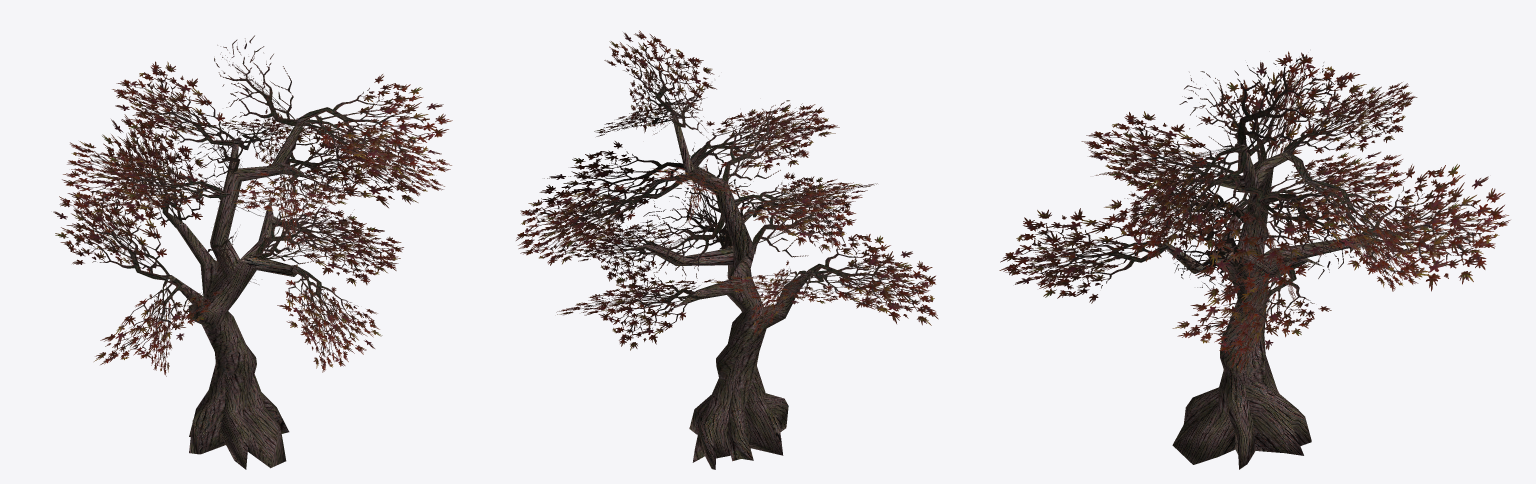
The model's file is decd_dath_blacktree_l0.fbx.
3 views of the same model, side by side, from view 1: azimuth 30°, elevation 25°; view 2: azimuth 150°, elevation 25°; view 3: azimuth 270°, elevation 25° (orthographic). The views are drawn at different scales.
Visible parts, largest first — view 1: mesh_node; view 2: mesh_node; view 3: mesh_node.
Boxes of the visible parts, x1,y1,x2,y2 form: mesh_node: (53,35,452,469); mesh_node: (516,30,938,469); mesh_node: (999,51,1510,469).
Bounding box in the file's own units: 15.71 × 16 × 17.62.
